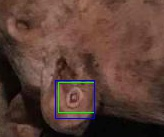text: (58, 82, 94, 112)
